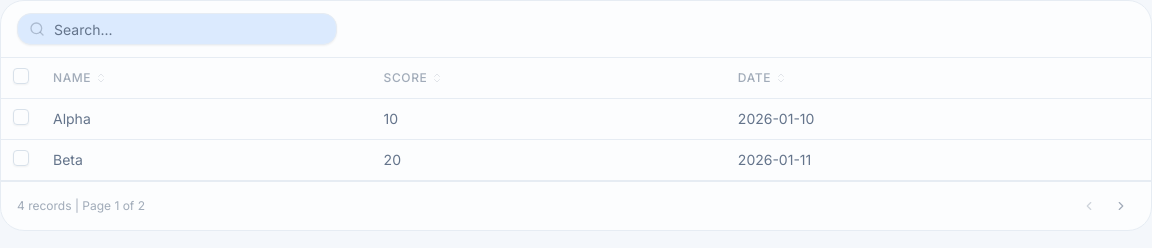
it: DataTable › keeps row selection stable across pagination, sort, and filter changes
The width and height of the screenshot is (1152, 248).
Click the button named "Next page".
click(1121, 206)  # box [1107,192,1135,220]
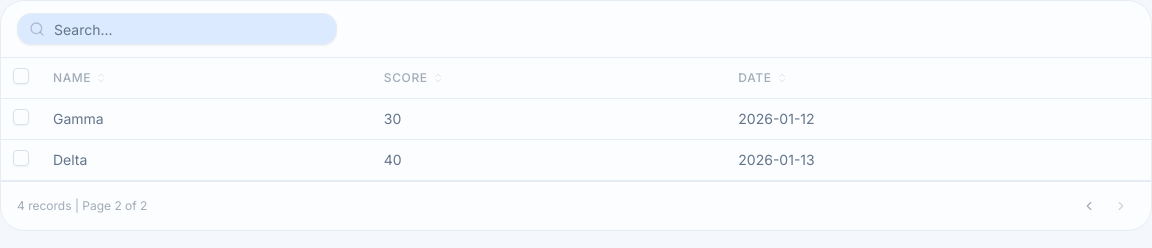
Check: the text "Delta" is shown, box [53,151,87,168]
Click the checkbox next to "Delta".
click(21, 158)  # box [13,150,29,166]
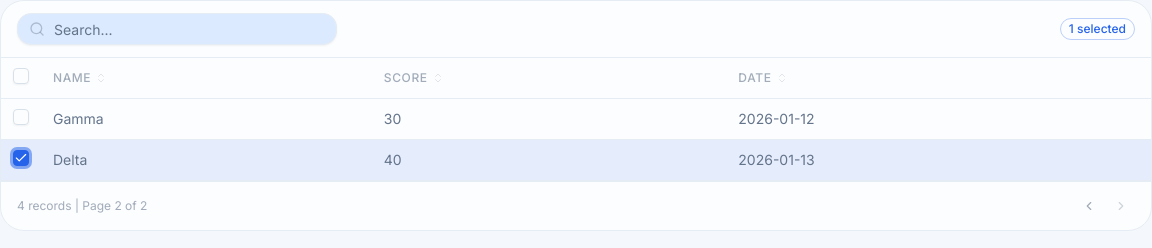
Click the button named "Previous page".
click(1089, 206)  # box [1075,192,1103,220]
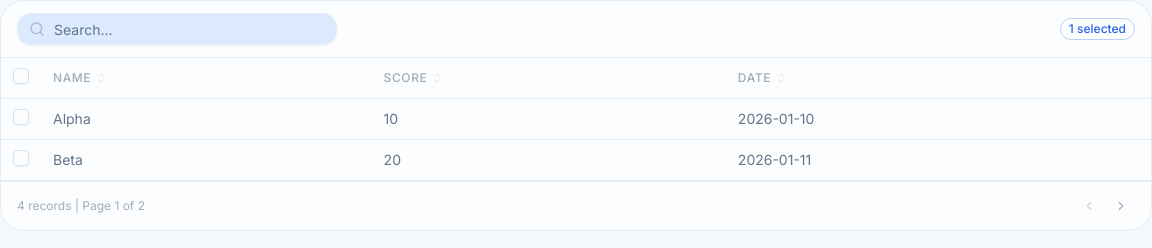
Click the column heading "Score".
click(405, 78)  # box [372,58,726,98]
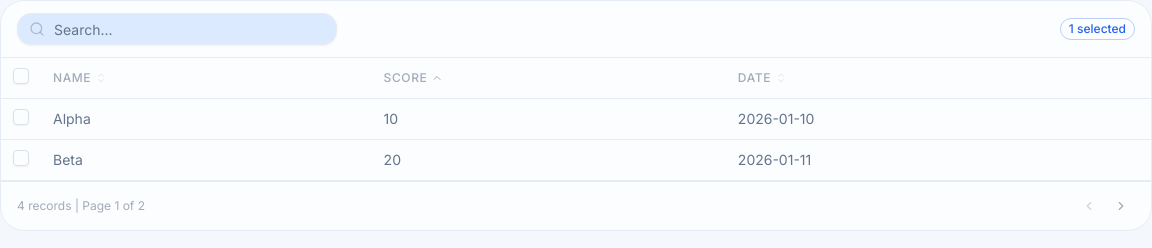
Type "Delta" into the field with placeholder "Search...".
click(177, 29); type("Delta")  # box [17,13,337,45]
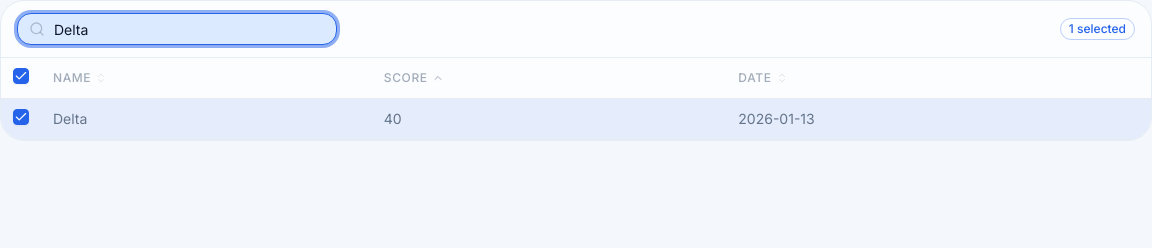
Check: the text "Delta" is shown, box [41,98,372,140]
